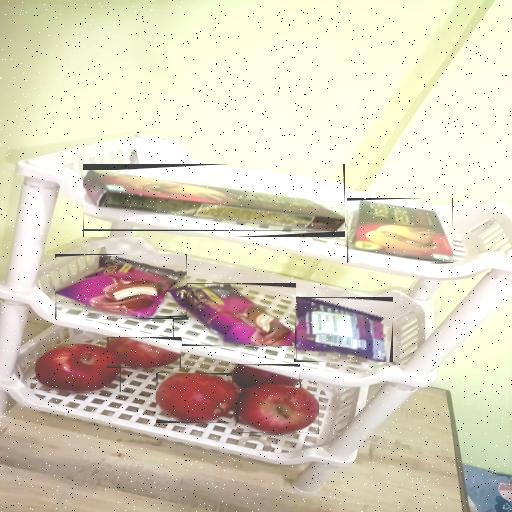Apple: (237, 382, 318, 433), (36, 344, 121, 392), (157, 373, 237, 422), (108, 337, 180, 368), (232, 365, 299, 388)
Choco Fills: (83, 170, 345, 231), (347, 200, 453, 262)
Choco Pie: (56, 255, 186, 317), (173, 284, 295, 346), (296, 298, 388, 362)
